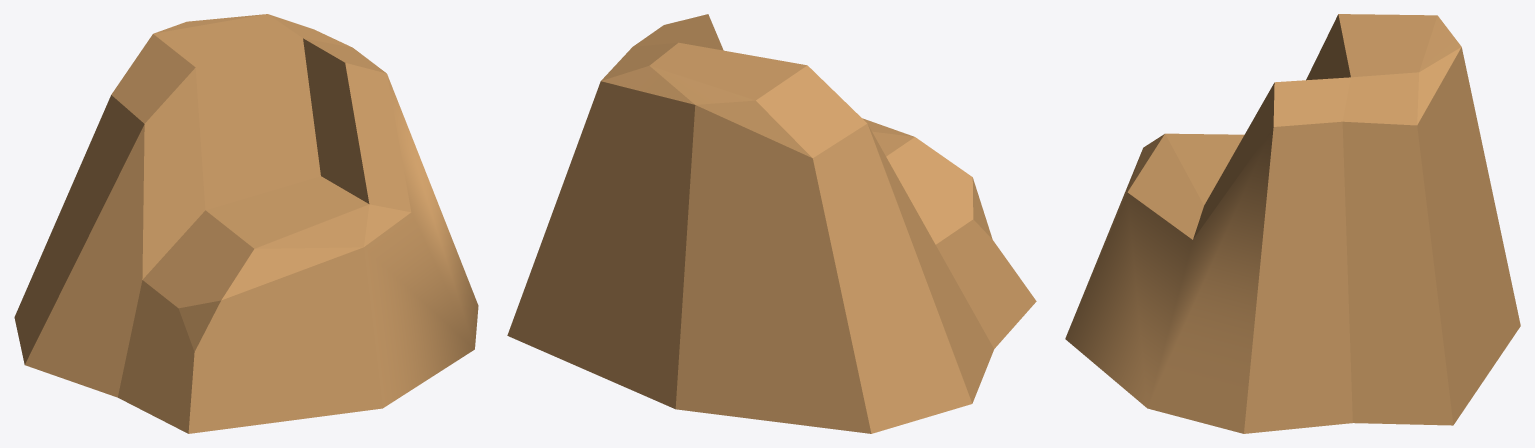
File: decoration_stone_14.glb
3 views of the same model, side by side, from view 1: azimuth 30°, elevation 25°; view 2: azimuth 150°, elevation 25°; view 3: azimuth 270°, elevation 25° (orthographic). The views are drawn at different scales.
Visible parts, largest first — view 1: Plane.068; view 2: Plane.068; view 3: Plane.068.
Part boxes in pixels (bbox=[...]): Plane.068: bbox=[14, 14, 478, 433]; Plane.068: bbox=[507, 14, 1036, 433]; Plane.068: bbox=[1065, 14, 1520, 433].
Bounding box in the file's own units: 15.35 × 9.7 × 13.75.
1 material, 1 textured.
